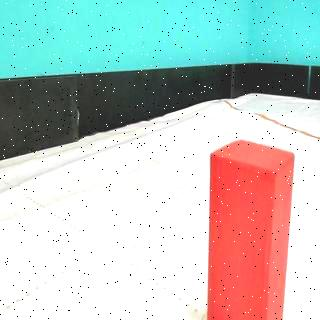redbox: (208, 139, 296, 320)
